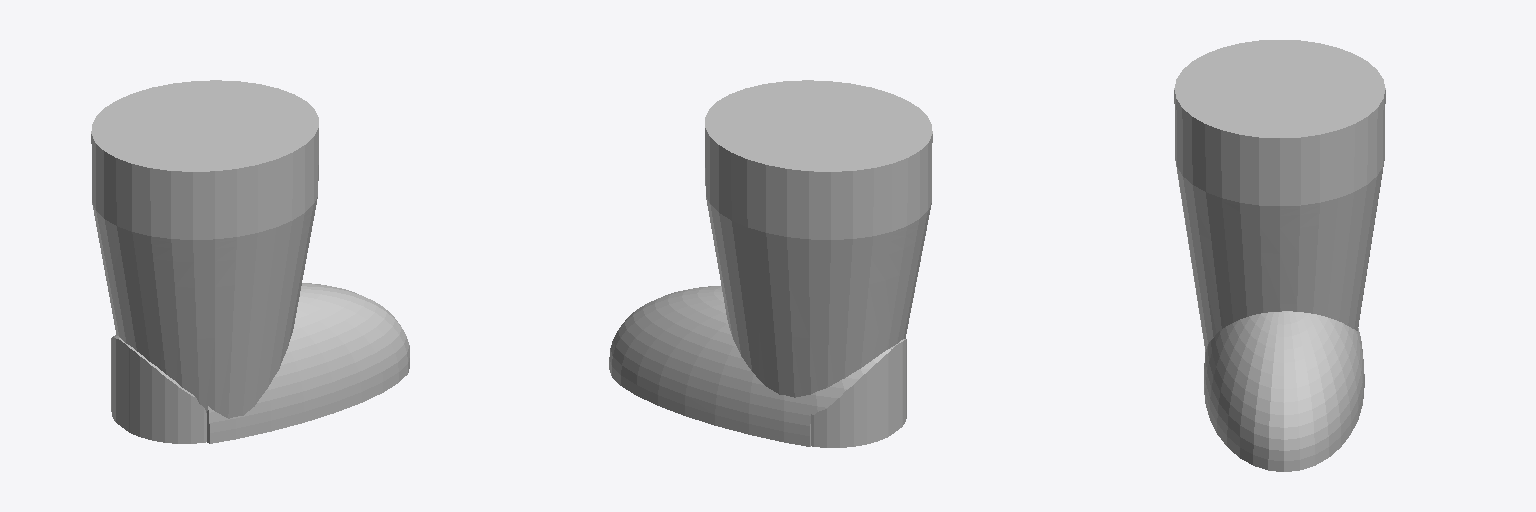
Rendered from pierna_izq_abajo.obj.
3 renders of one model, left to right at view 1: azimuth 30°, elevation 25°; view 2: azimuth 150°, elevation 25°; view 3: azimuth 270°, elevation 25°, orthographic.
Visible parts, largest first — view 1: Cilindro.005_Cilindro.006, Cilindro.001; view 2: Cilindro.005_Cilindro.006, Cilindro.001; view 3: Cilindro.005_Cilindro.006, Cilindro.001.
Part boxes in pixels (left/top/right/bottom): Cilindro.005_Cilindro.006: left=91, top=80, right=318, bottom=418; Cilindro.001: left=111, top=283, right=409, bottom=443; Cilindro.005_Cilindro.006: left=705, top=80, right=932, bottom=397; Cilindro.001: left=609, top=286, right=906, bottom=447; Cilindro.005_Cilindro.006: left=1174, top=40, right=1385, bottom=351; Cilindro.001: left=1204, top=311, right=1364, bottom=471.
Bounding box in the file's own units: 0.2509 × 0.2242 × 0.1509.